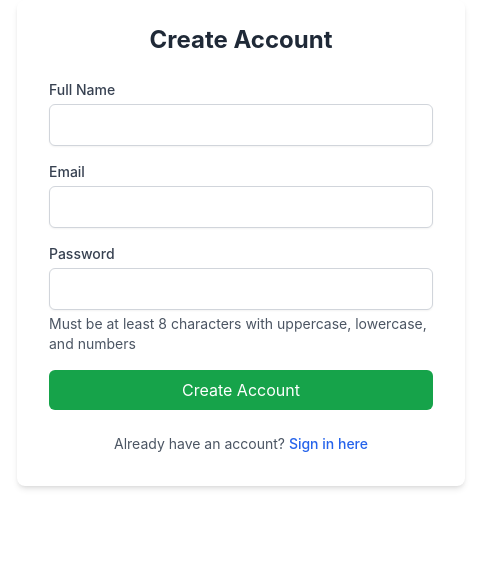
Scenario: SignupForm › handles unexpected errors gracefully
Type "John Doe" into the field labelled "Full Name".
click(241, 125); type("John Doe")  # box [49,104,433,146]
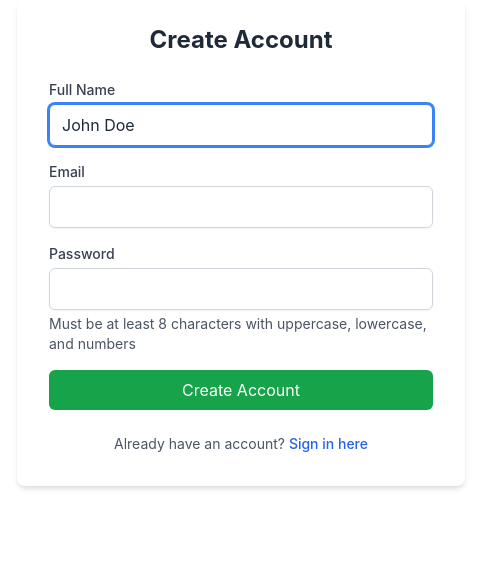
Type "john@example.com" into the field labelled "Email".
click(241, 207); type("john@example.com")  # box [49,186,433,228]
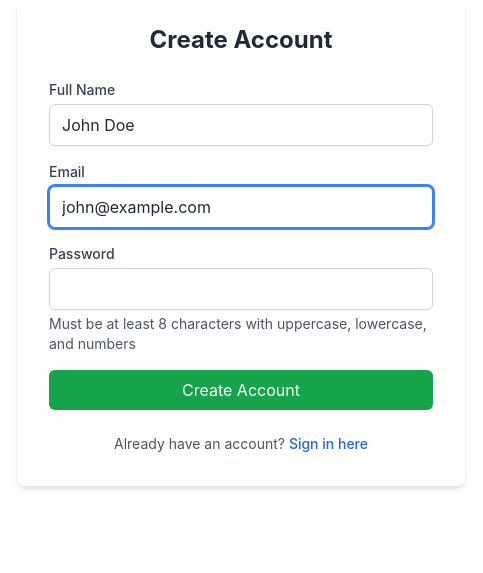
Type "SecurePass123" into the password field labelled "Password".
click(241, 289); type("SecurePass123")  # box [49,268,433,310]
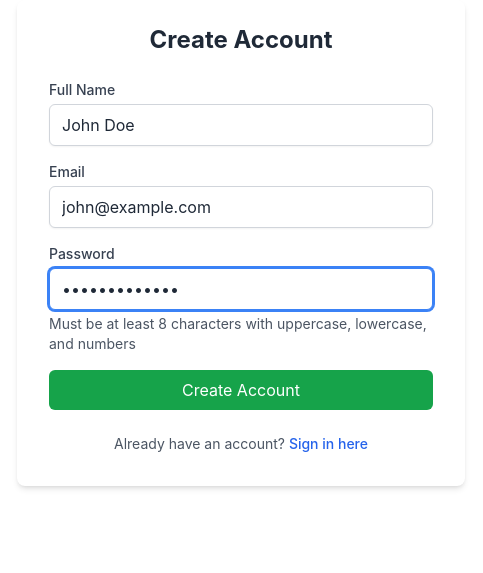
Click the button "Create Account".
click(241, 390)  # box [49,370,433,410]
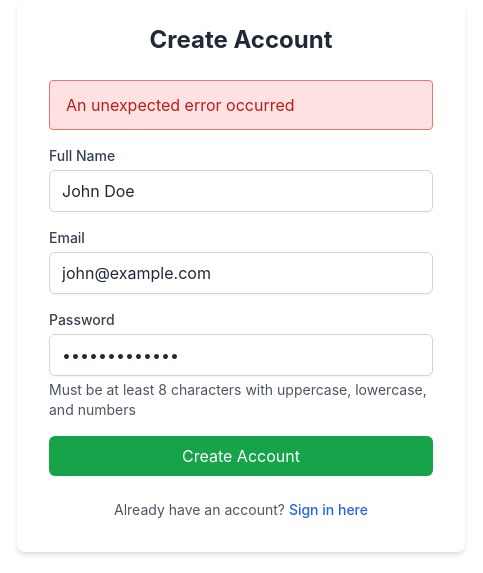
Expected: the text "An unexpected error occurred" is shown, [49,80,433,130]
